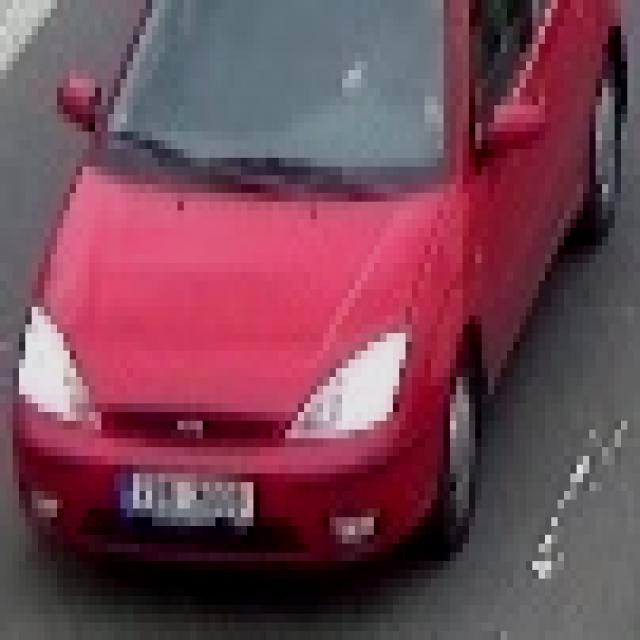red: (16, 0, 631, 574)
